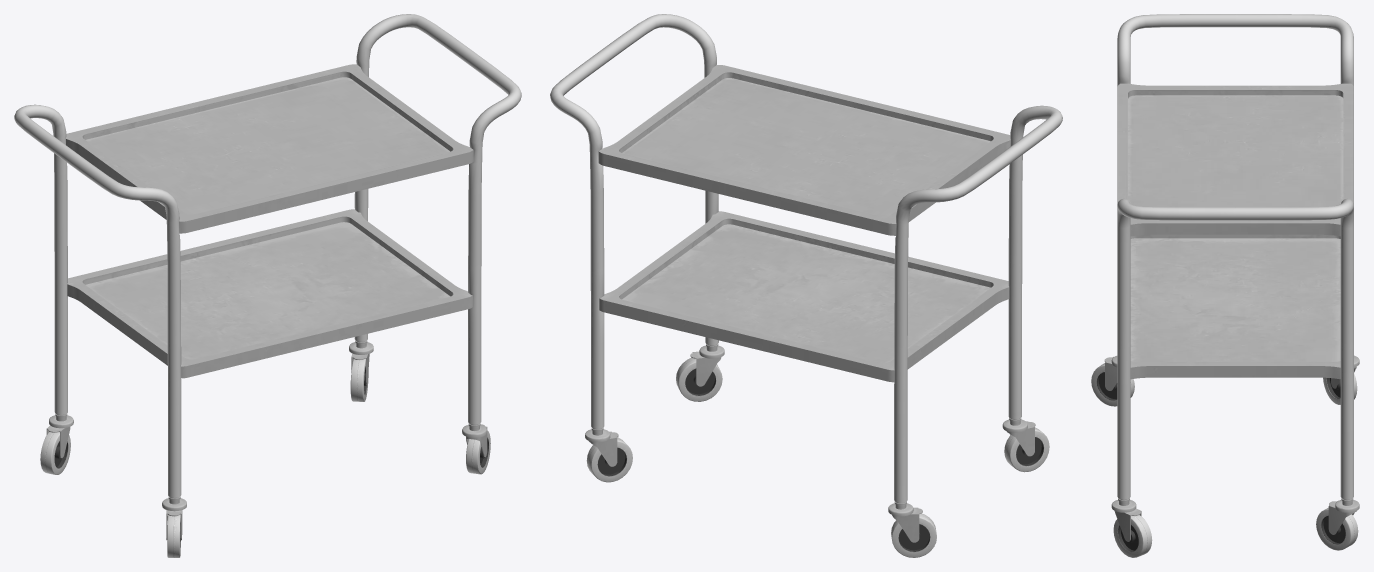
The model's file is trolley.glb.
3 renders of one model, left to right at view 1: azimuth 30°, elevation 25°; view 2: azimuth 150°, elevation 25°; view 3: azimuth 270°, elevation 25°, orthographic. The views are drawn at different scales.
Visible parts, largest first — view 1: Trolley; view 2: Trolley; view 3: Trolley.
Boxes of the visible parts, x1=… form: Trolley: x1=14, y1=14, x2=521, y2=557; Trolley: x1=550, y1=14, x2=1062, y2=557; Trolley: x1=1091, y1=14, x2=1359, y2=557.
Bounding box in the file's own units: 1.06 × 0.9138 × 0.6045.
1 material, 1 textured.
